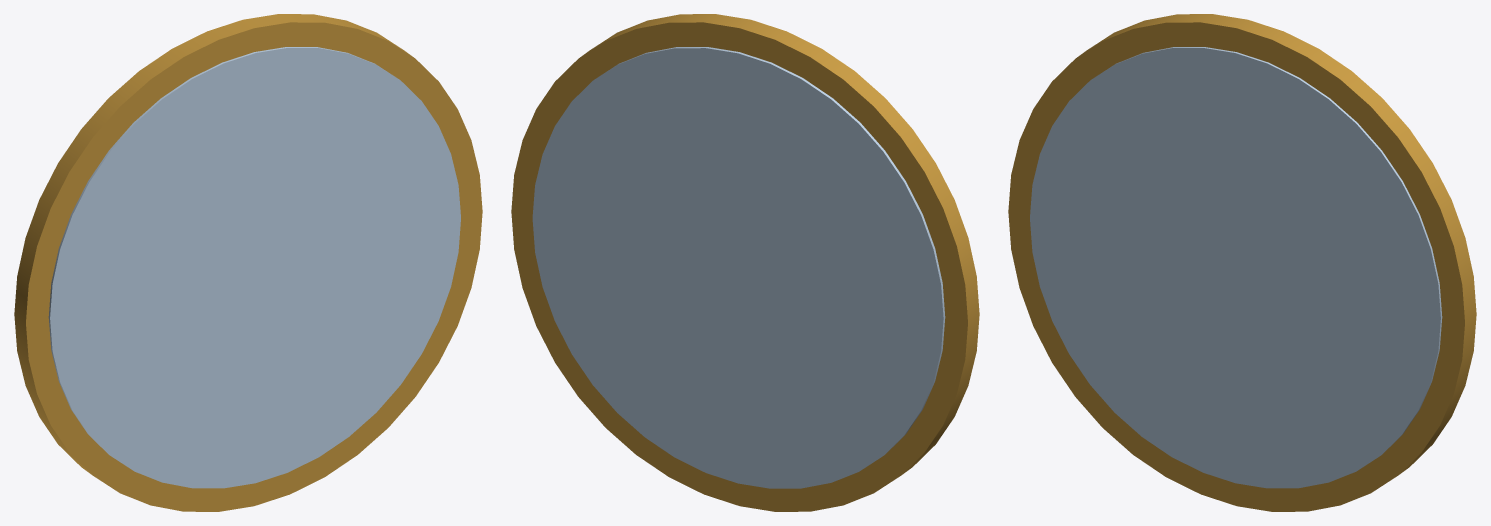
File: Mirror_Wall_Round.glb
3 views of the same model, side by side, from view 1: azimuth 30°, elevation 25°; view 2: azimuth 150°, elevation 25°; view 3: azimuth 330°, elevation 25° (orthographic).
Parts seen in each view (by area): view 1: Mirror_Wall_Round; view 2: Mirror_Wall_Round; view 3: Mirror_Wall_Round.
Part boxes in pixels (box(x1,y1,x2,y2)): Mirror_Wall_Round: box(14, 14, 482, 511); Mirror_Wall_Round: box(511, 14, 979, 511); Mirror_Wall_Round: box(1008, 14, 1476, 511).
Bounding box in the file's own units: 0.8 × 0.8 × 0.044.
